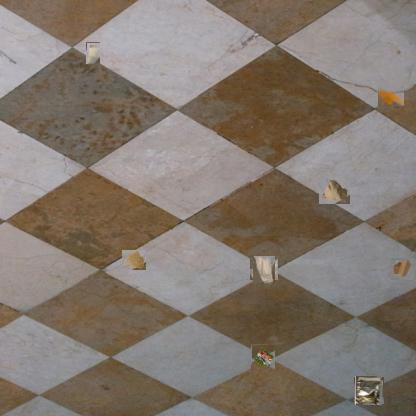dirty: (320, 178, 352, 204), (355, 376, 383, 405), (251, 344, 275, 370), (251, 257, 277, 281), (392, 258, 416, 280), (86, 42, 100, 64)
liquid: (122, 250, 146, 271), (378, 88, 404, 106)
